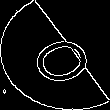O_NE: (15, 24, 95, 86)
